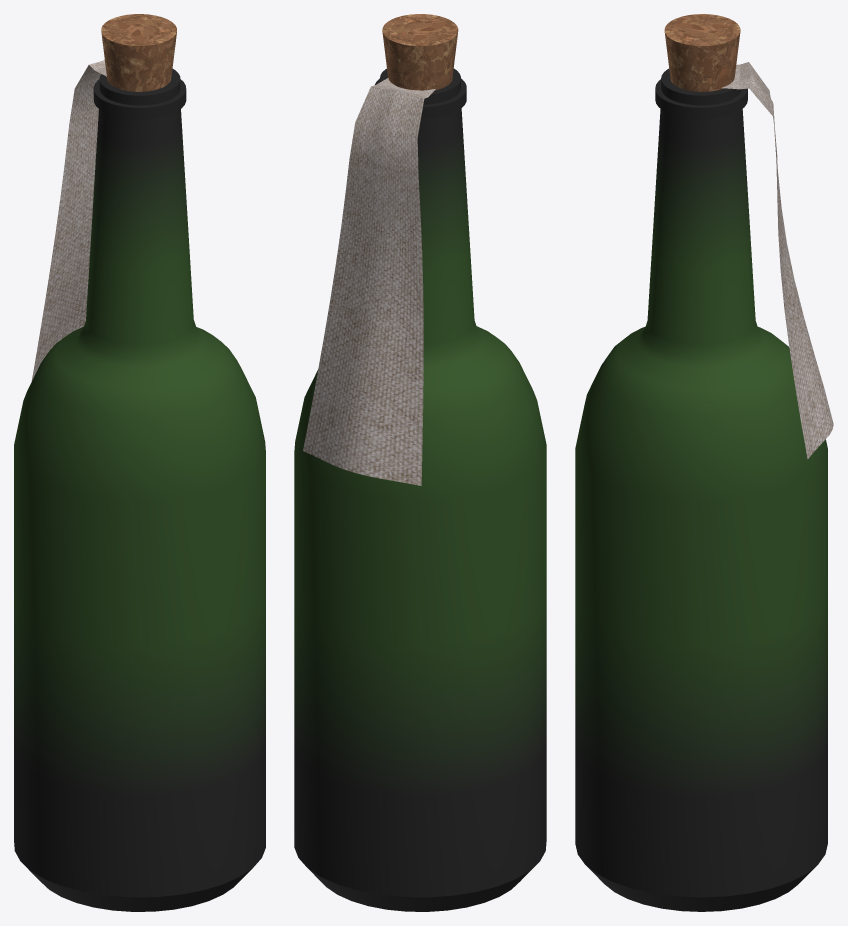
Rendered from Molotov.fbx.
3 views of the same model, side by side, from view 1: azimuth 30°, elevation 25°; view 2: azimuth 150°, elevation 25°; view 3: azimuth 270°, elevation 25° (orthographic).
Visible parts, largest first — view 1: bottal_low; view 2: bottal_low; view 3: bottal_low.
Part boxes in pixels (bbox=[...]): bottal_low: bbox=[14, 14, 265, 911]; bottal_low: bbox=[294, 14, 546, 911]; bottal_low: bbox=[575, 14, 833, 911].
Size of the model in its own units: 536 by 1961 by 548.
